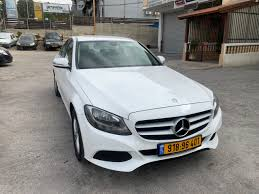licence: (158, 133, 202, 157)
